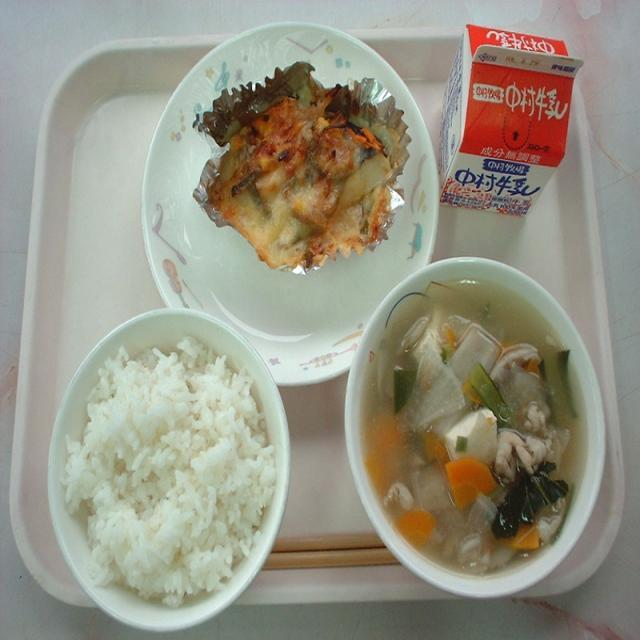Rice: (58, 326, 276, 610)
